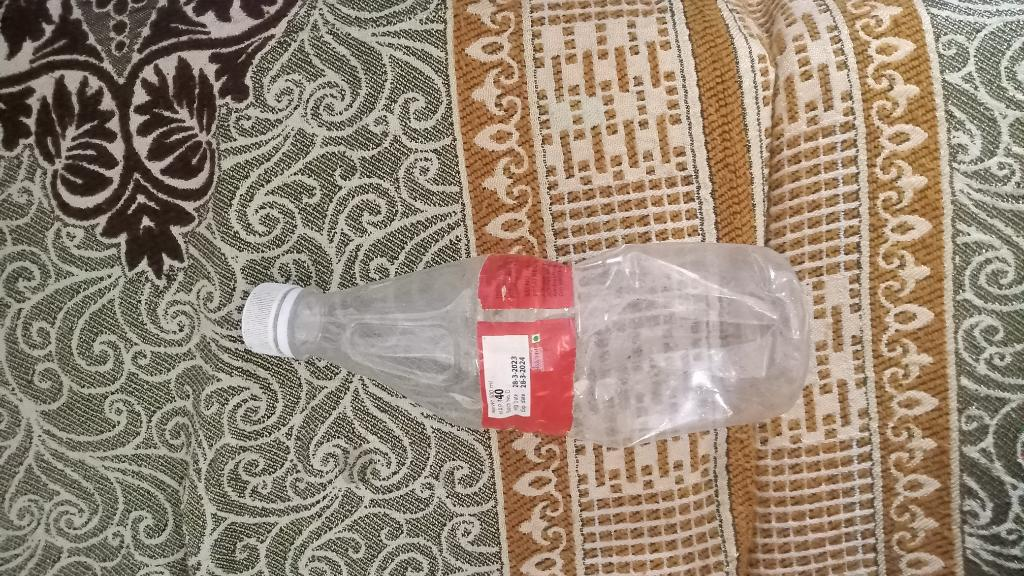garbage: (208, 227, 837, 464)
